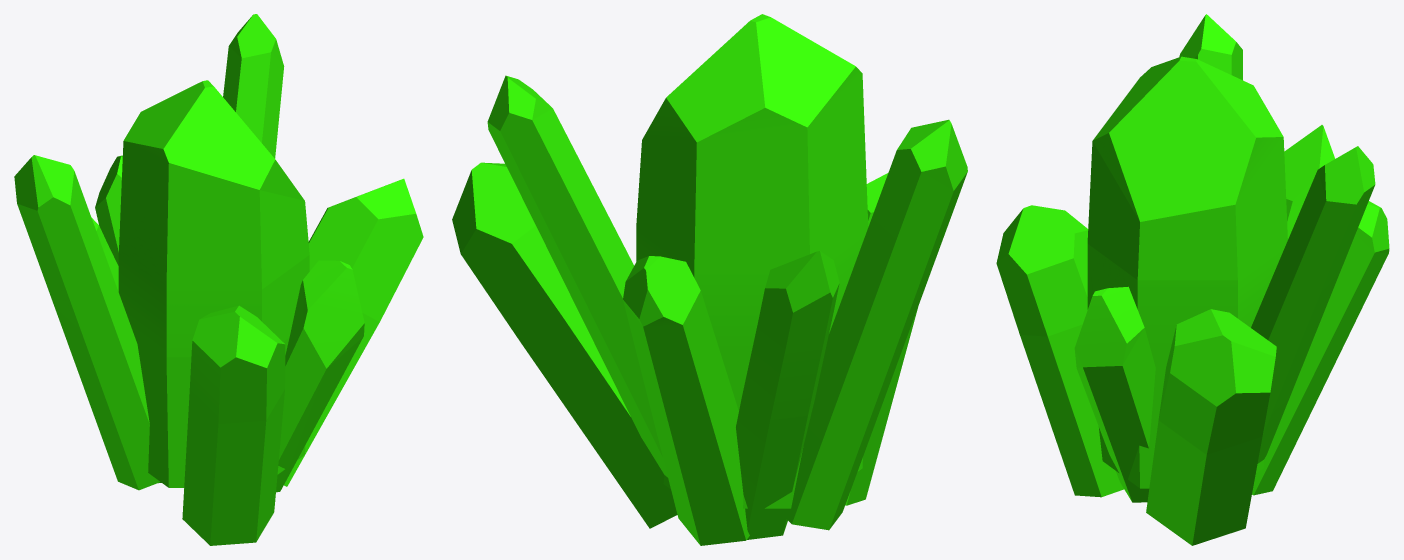
File: Greenar Mother.glb
The picture shows the model from 3 angles, left to right: view 1: azimuth 30°, elevation 25°; view 2: azimuth 150°, elevation 25°; view 3: azimuth 270°, elevation 25°; orthographic projection. The views are drawn at different scales.
Visible parts, largest first — view 1: Crystals_l_01; view 2: Crystals_l_01; view 3: Crystals_l_01.
Part boxes in pixels (<box>): Crystals_l_01: <box>14,14,423,545</box>; Crystals_l_01: <box>452,14,967,545</box>; Crystals_l_01: <box>996,14,1389,545</box>.
Bounding box in the file's own units: 4.47 × 4.47 × 3.57.
